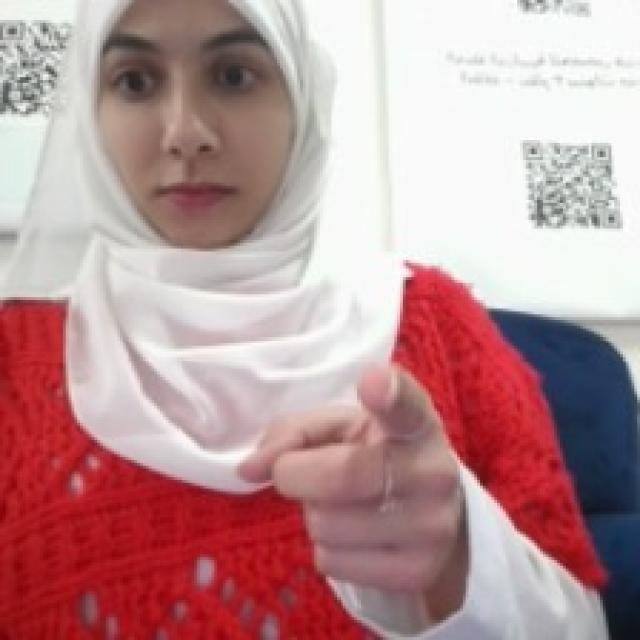you: (232, 349, 472, 597)
